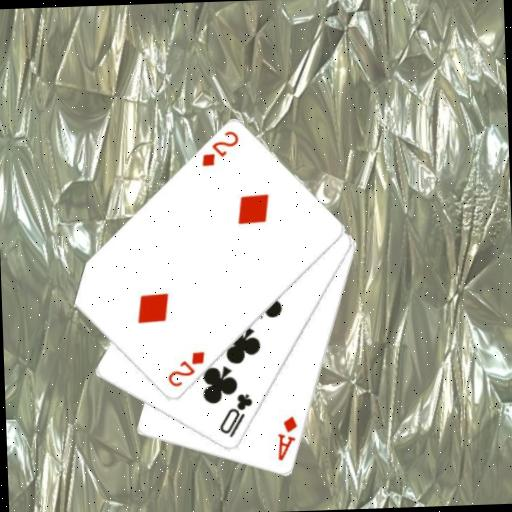10C: (215, 390, 256, 440)
2D: (164, 348, 208, 389), (197, 127, 241, 168)
AD: (273, 413, 300, 463)
